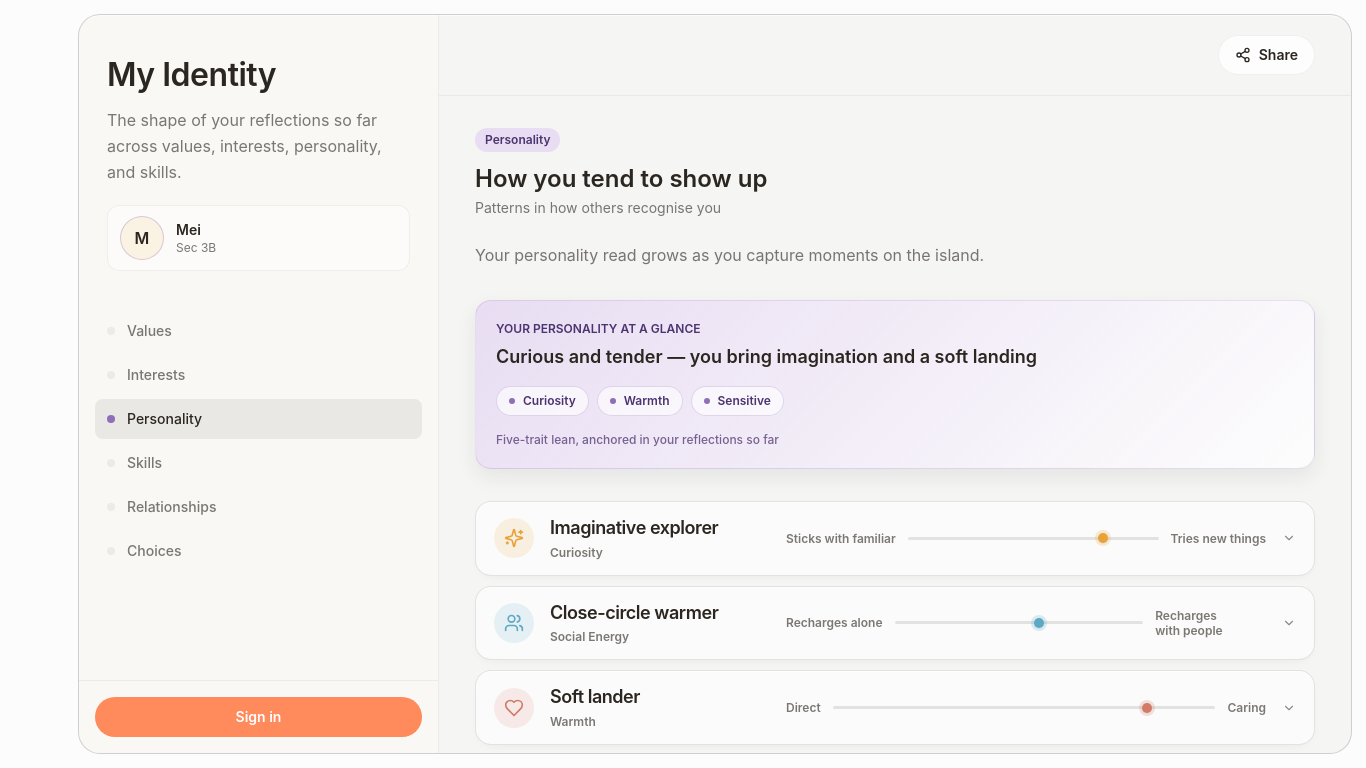
Test: ProfileSheet (React) › Personality Big-Five scaffold › expands a card to reveal the school readout and aspect scores
Click the button with test id "bigfive-card-curiosity".
click(895, 538)  # box 476,502 -> 1314,575
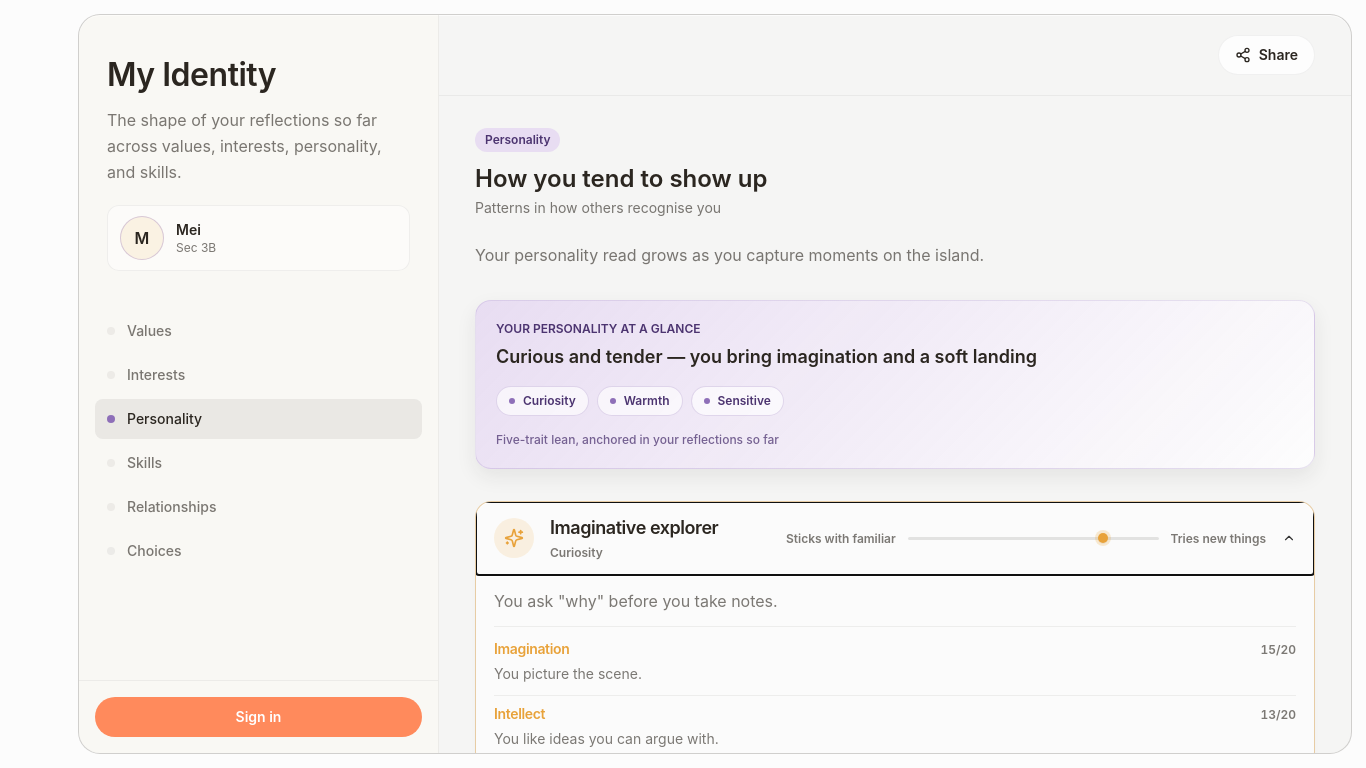
Check: the button with test id "bigfive-card-curiosity" is expanded, box 476,502 -> 1314,575
Check: the text "You ask \"why\" before you take notes." is shown, box 494,590 -> 778,610
Check: the text "Imagination" is shown, box 494,638 -> 569,658
